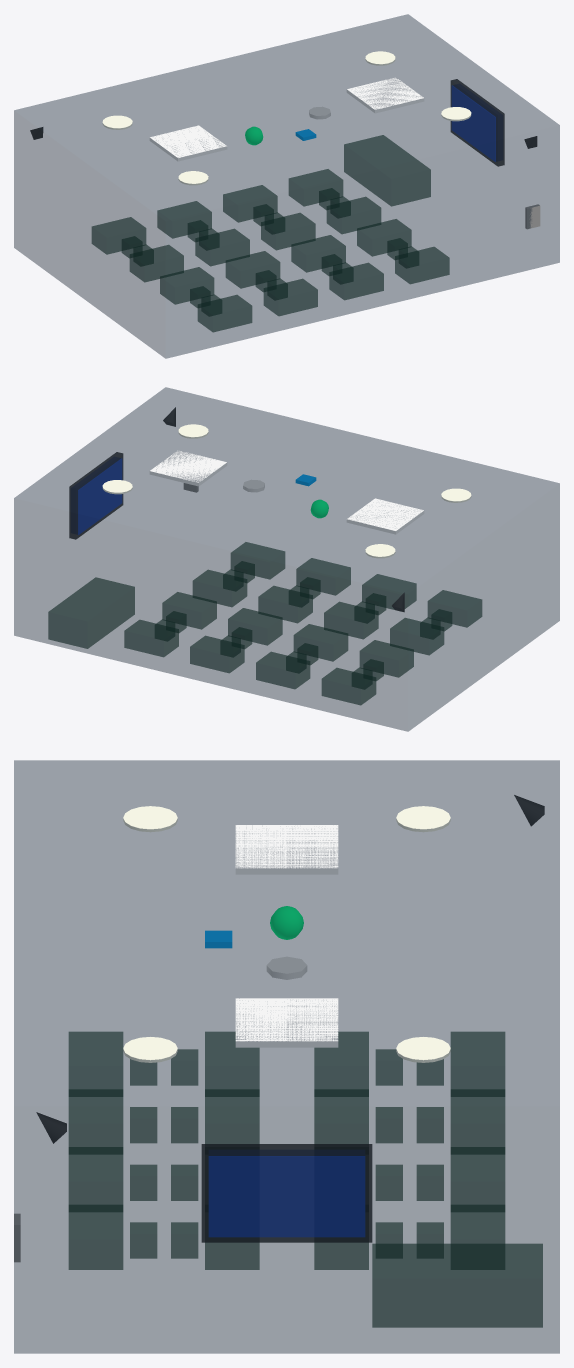
3 views of the same model, one above another, from view 1: azimuth 30°, elevation 25°; view 2: azimuth 150°, elevation 25°; view 3: azimuth 270°, elevation 25° (orthographic). The views are drawn at different scales.
Visible parts, largest first — view 1: Arch:WALL_L4-T1, object 41, object 34, object 35, Device:AC1_L4-T1, Device:AC2_L4-T1, object 24, object 32, object 8, object 16, object 20, object 12 (+10 smaller); view 2: Arch:WALL_L4-T1, object 41, object 34, object 35, Device:AC1_L4-T1, Device:AC2_L4-T1, object 18, object 26, object 2, object 10, object 22, object 14 (+10 smaller); view 3: Arch:WALL_L4-T1, object 34, object 41, object 35, Device:AC1_L4-T1, Device:AC2_L4-T1, object 32, object 2, object 8, object 10, object 16, object 18 (+26 smaller).
Boxes of the visible parts, x1,y1,x2,y2 form: Arch:WALL_L4-T1: (14,14,559,358); object 41: (344,135,430,206); object 34: (450,79,504,166); object 35: (452,85,495,161); Device:AC1_L4-T1: (149,125,227,161); Device:AC2_L4-T1: (346,77,424,113); object 24: (329,263,383,299); object 32: (395,247,449,283); object 8: (198,295,251,332); object 16: (264,279,317,315); object 20: (261,213,315,250); object 12: (195,229,249,266); Arch:WALL_L4-T1: (14,387,559,731); object 41: (48,577,134,648); object 34: (69,452,123,539); object 35: (78,458,121,534); Device:AC1_L4-T1: (346,498,424,534); Device:AC2_L4-T1: (149,450,227,486); object 18: (190,636,244,672); object 26: (124,620,178,656); object 2: (322,668,375,705); object 10: (256,652,309,688); object 22: (258,586,312,623); object 14: (324,602,378,639); Arch:WALL_L4-T1: (14,760,559,1353); object 34: (201,1144,372,1242); object 41: (372,1244,542,1327); object 35: (209,1156,364,1236); Device:AC1_L4-T1: (235,825,338,874); Device:AC2_L4-T1: (235,998,338,1047); object 32: (69,1205,122,1269); object 2: (451,1032,504,1089); object 8: (69,1032,122,1089); object 10: (451,1089,504,1146); object 16: (69,1089,122,1146); object 18: (451,1147,504,1204).
Size of the model in its own units: 12 by 4.01 by 8.
